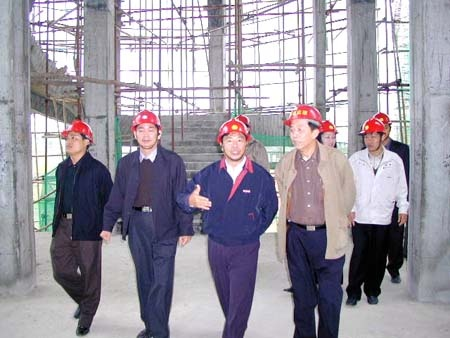red: (288, 105, 323, 148), (215, 119, 250, 161), (61, 118, 94, 158), (130, 108, 162, 149), (360, 120, 386, 151), (317, 116, 337, 148), (370, 109, 391, 137)
